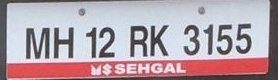character: (24, 27, 50, 59), (53, 26, 73, 60), (149, 23, 169, 56), (129, 25, 148, 56), (182, 24, 200, 56), (215, 23, 233, 55), (98, 27, 115, 58), (235, 22, 252, 53), (84, 26, 96, 58), (203, 23, 213, 55)
